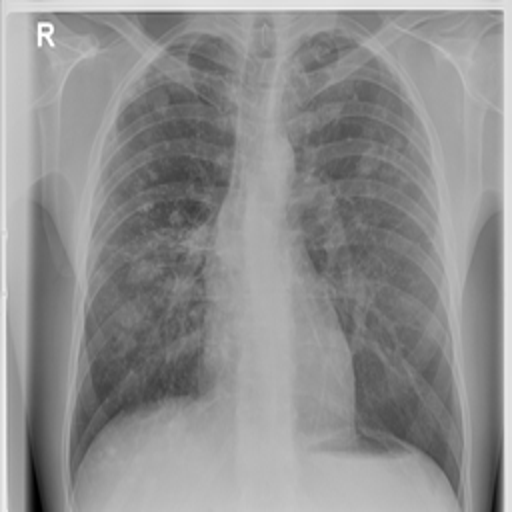TB: (335, 126, 422, 302), (113, 197, 201, 356)
